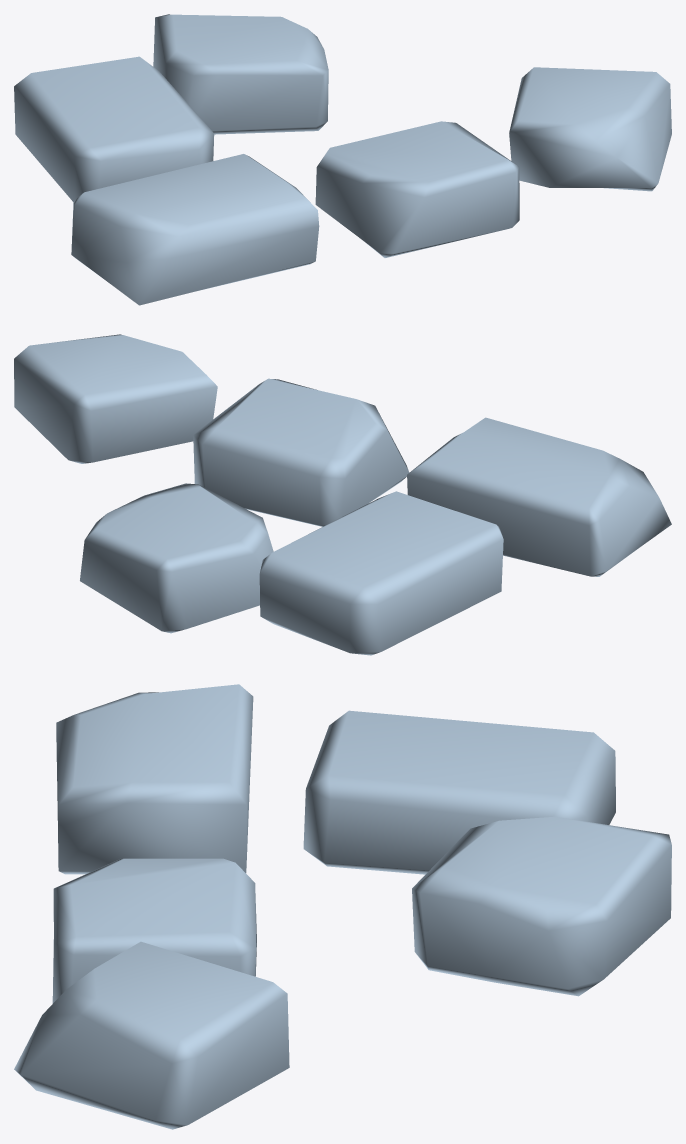
File: Slab_Pile_04_Lod0.fbx
3 views of the same model, one above another, from view 1: azimuth 30°, elevation 25°; view 2: azimuth 150°, elevation 25°; view 3: azimuth 270°, elevation 25° (orthographic). The views are drawn at different scales.
Visible parts, largest first — view 1: Slab_Pile_04_Lod0; view 2: Slab_Pile_04_Lod0; view 3: Slab_Pile_04_Lod0.
Part boxes in pixels (box(x1,y1,x2,y2)): Slab_Pile_04_Lod0: box(14, 14, 671, 305); Slab_Pile_04_Lod0: box(14, 334, 671, 655); Slab_Pile_04_Lod0: box(14, 684, 671, 1129).
Bounding box in the file's own units: 159 × 22.77 × 118.
